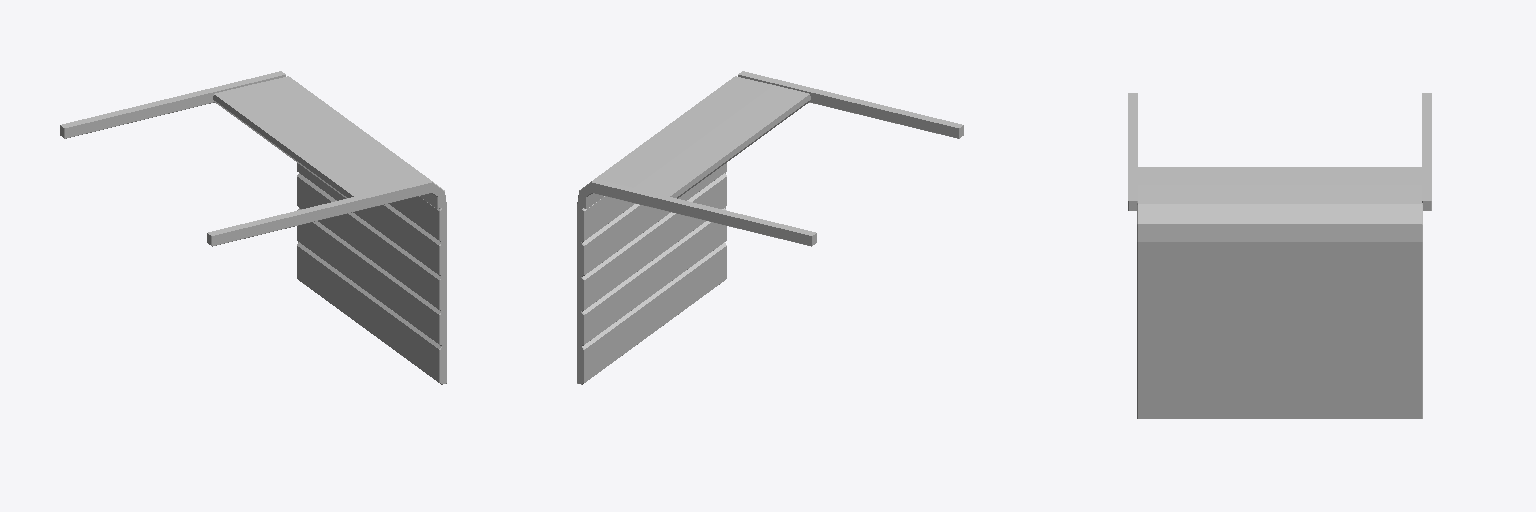
The model's file is GarageDoor.obj.
3 views of the same model, side by side, from view 1: azimuth 30°, elevation 25°; view 2: azimuth 150°, elevation 25°; view 3: azimuth 270°, elevation 25° (orthographic).
Bounding box in the file's own units: 404 × 337 × 443.